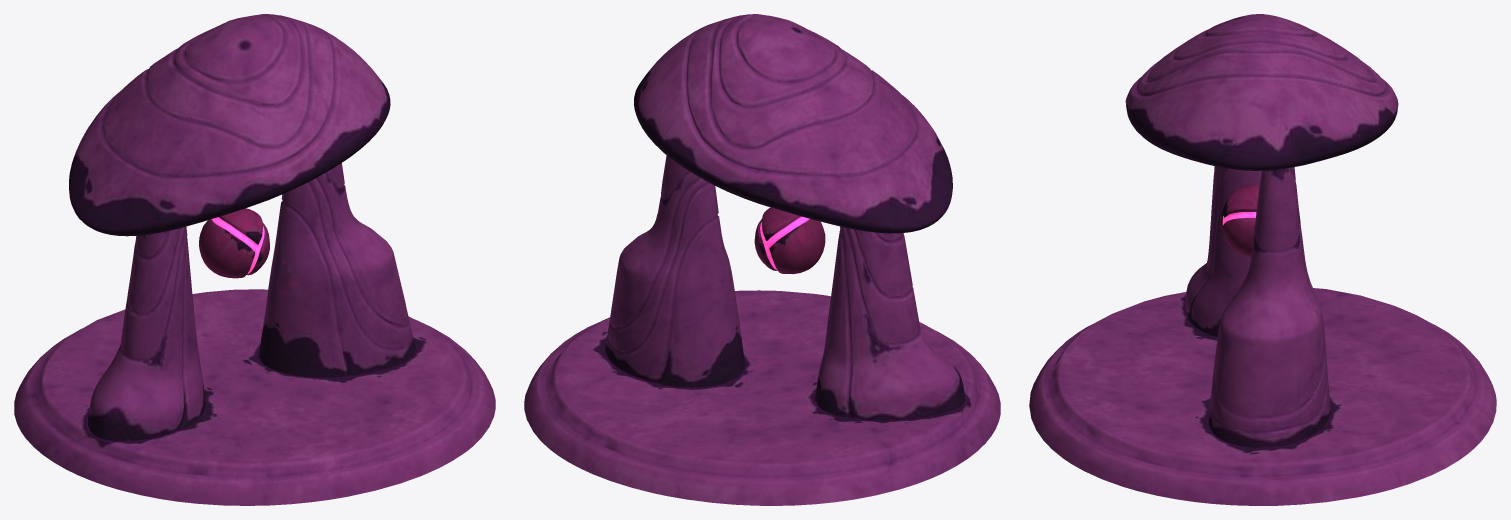
Rendered from sky_shrine_a_chaos_v35.glb.
3 views of the same model, side by side, from view 1: azimuth 30°, elevation 25°; view 2: azimuth 150°, elevation 25°; view 3: azimuth 270°, elevation 25° (orthographic).
Visible parts, largest first — view 1: shrine_a; view 2: shrine_a; view 3: shrine_a.
Boxes of the visible parts, x1,y1,x2,y2 form: shrine_a: (14,14,495,505); shrine_a: (524,14,1000,505); shrine_a: (1029,14,1496,505).
Size of the model in its own units: 2.38 by 2.09 by 2.3.
Materials: 1 (1 with a texture image).
